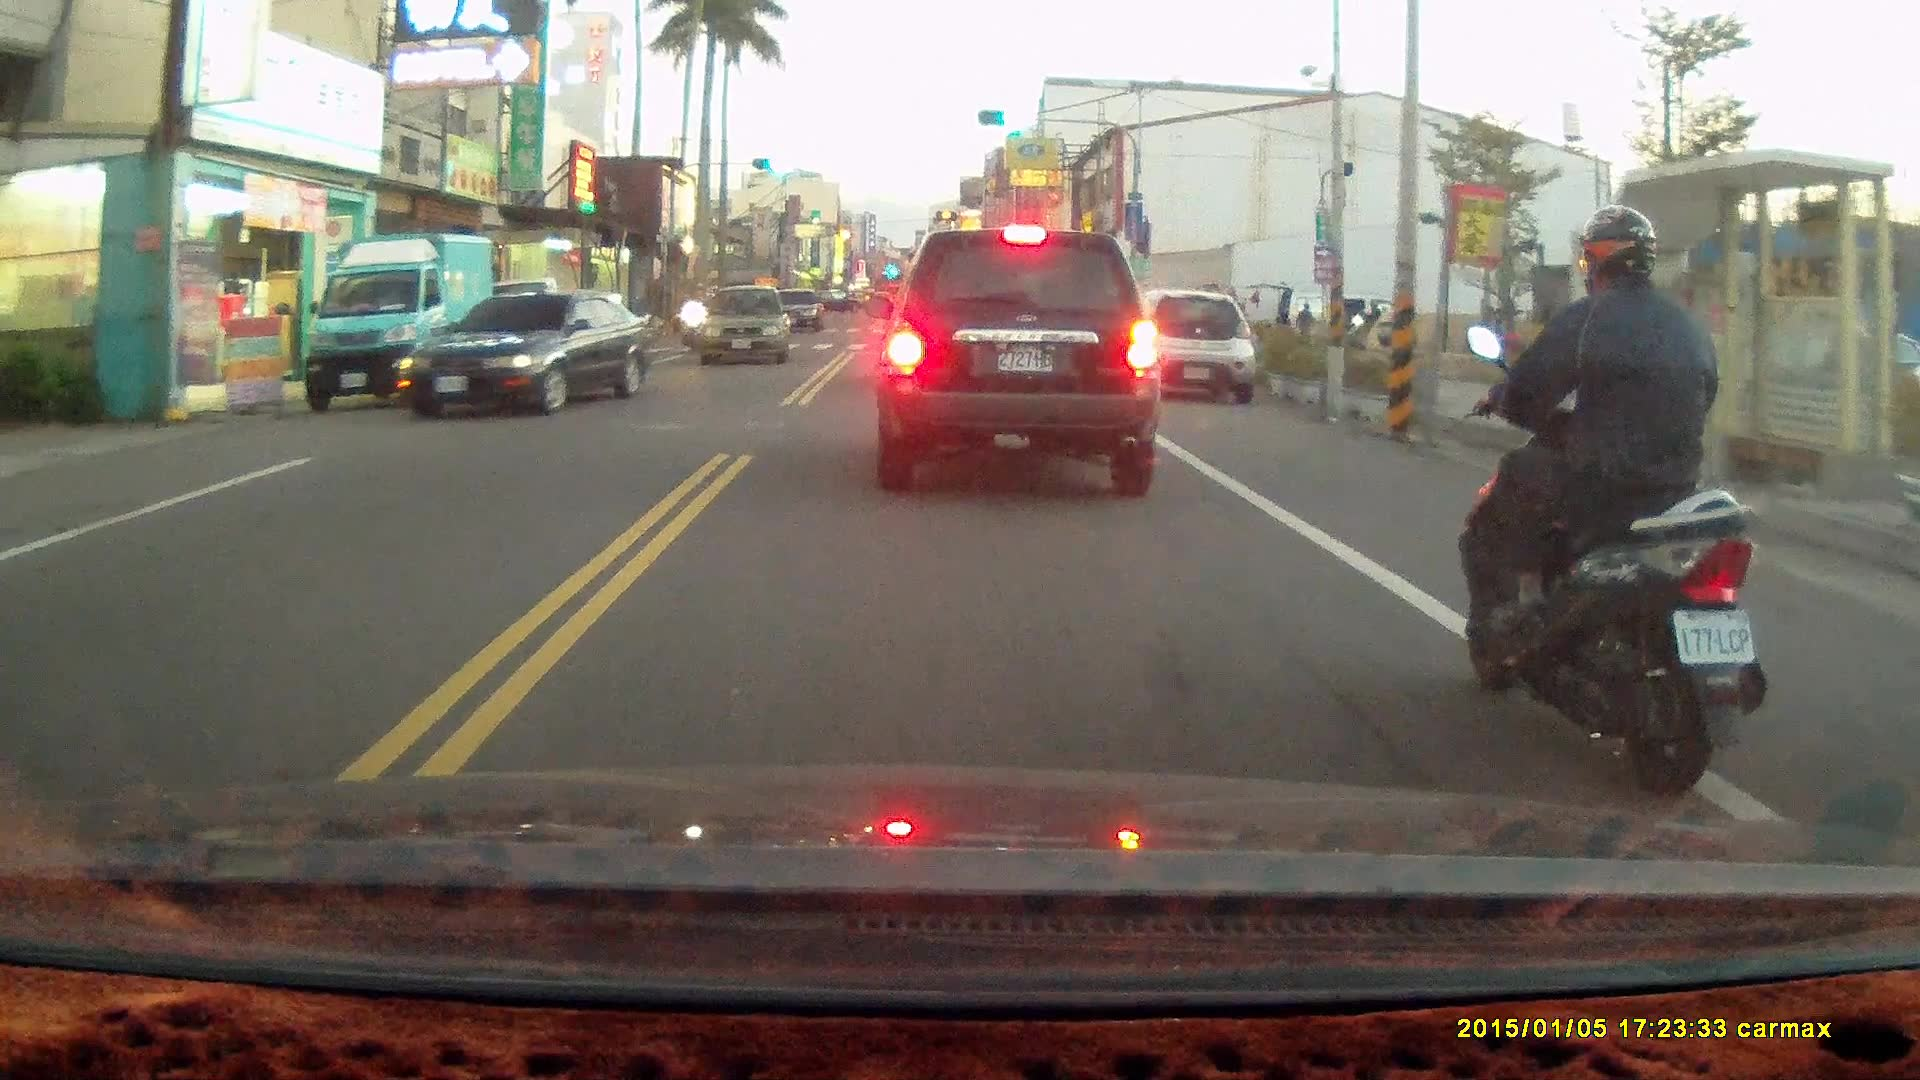rider: (1456, 200, 1767, 793), (677, 282, 712, 357)
vehicle: (875, 227, 1161, 499), (301, 231, 502, 422), (397, 291, 654, 417), (1136, 287, 1258, 407), (695, 286, 797, 370)
